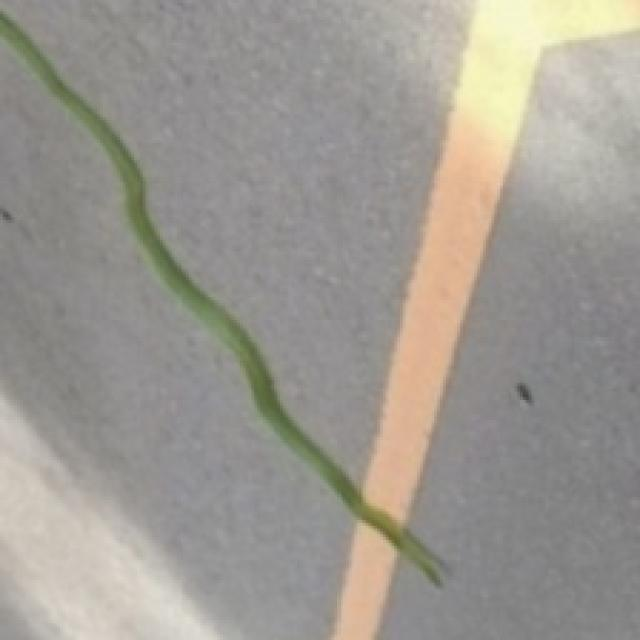red-tailed green ratsnake: (0, 12, 440, 584), (0, 14, 394, 537)
